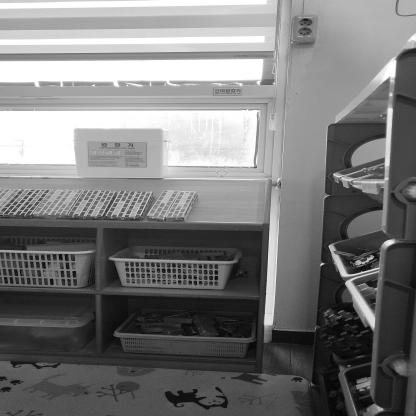DDL: (72, 128, 172, 178)
